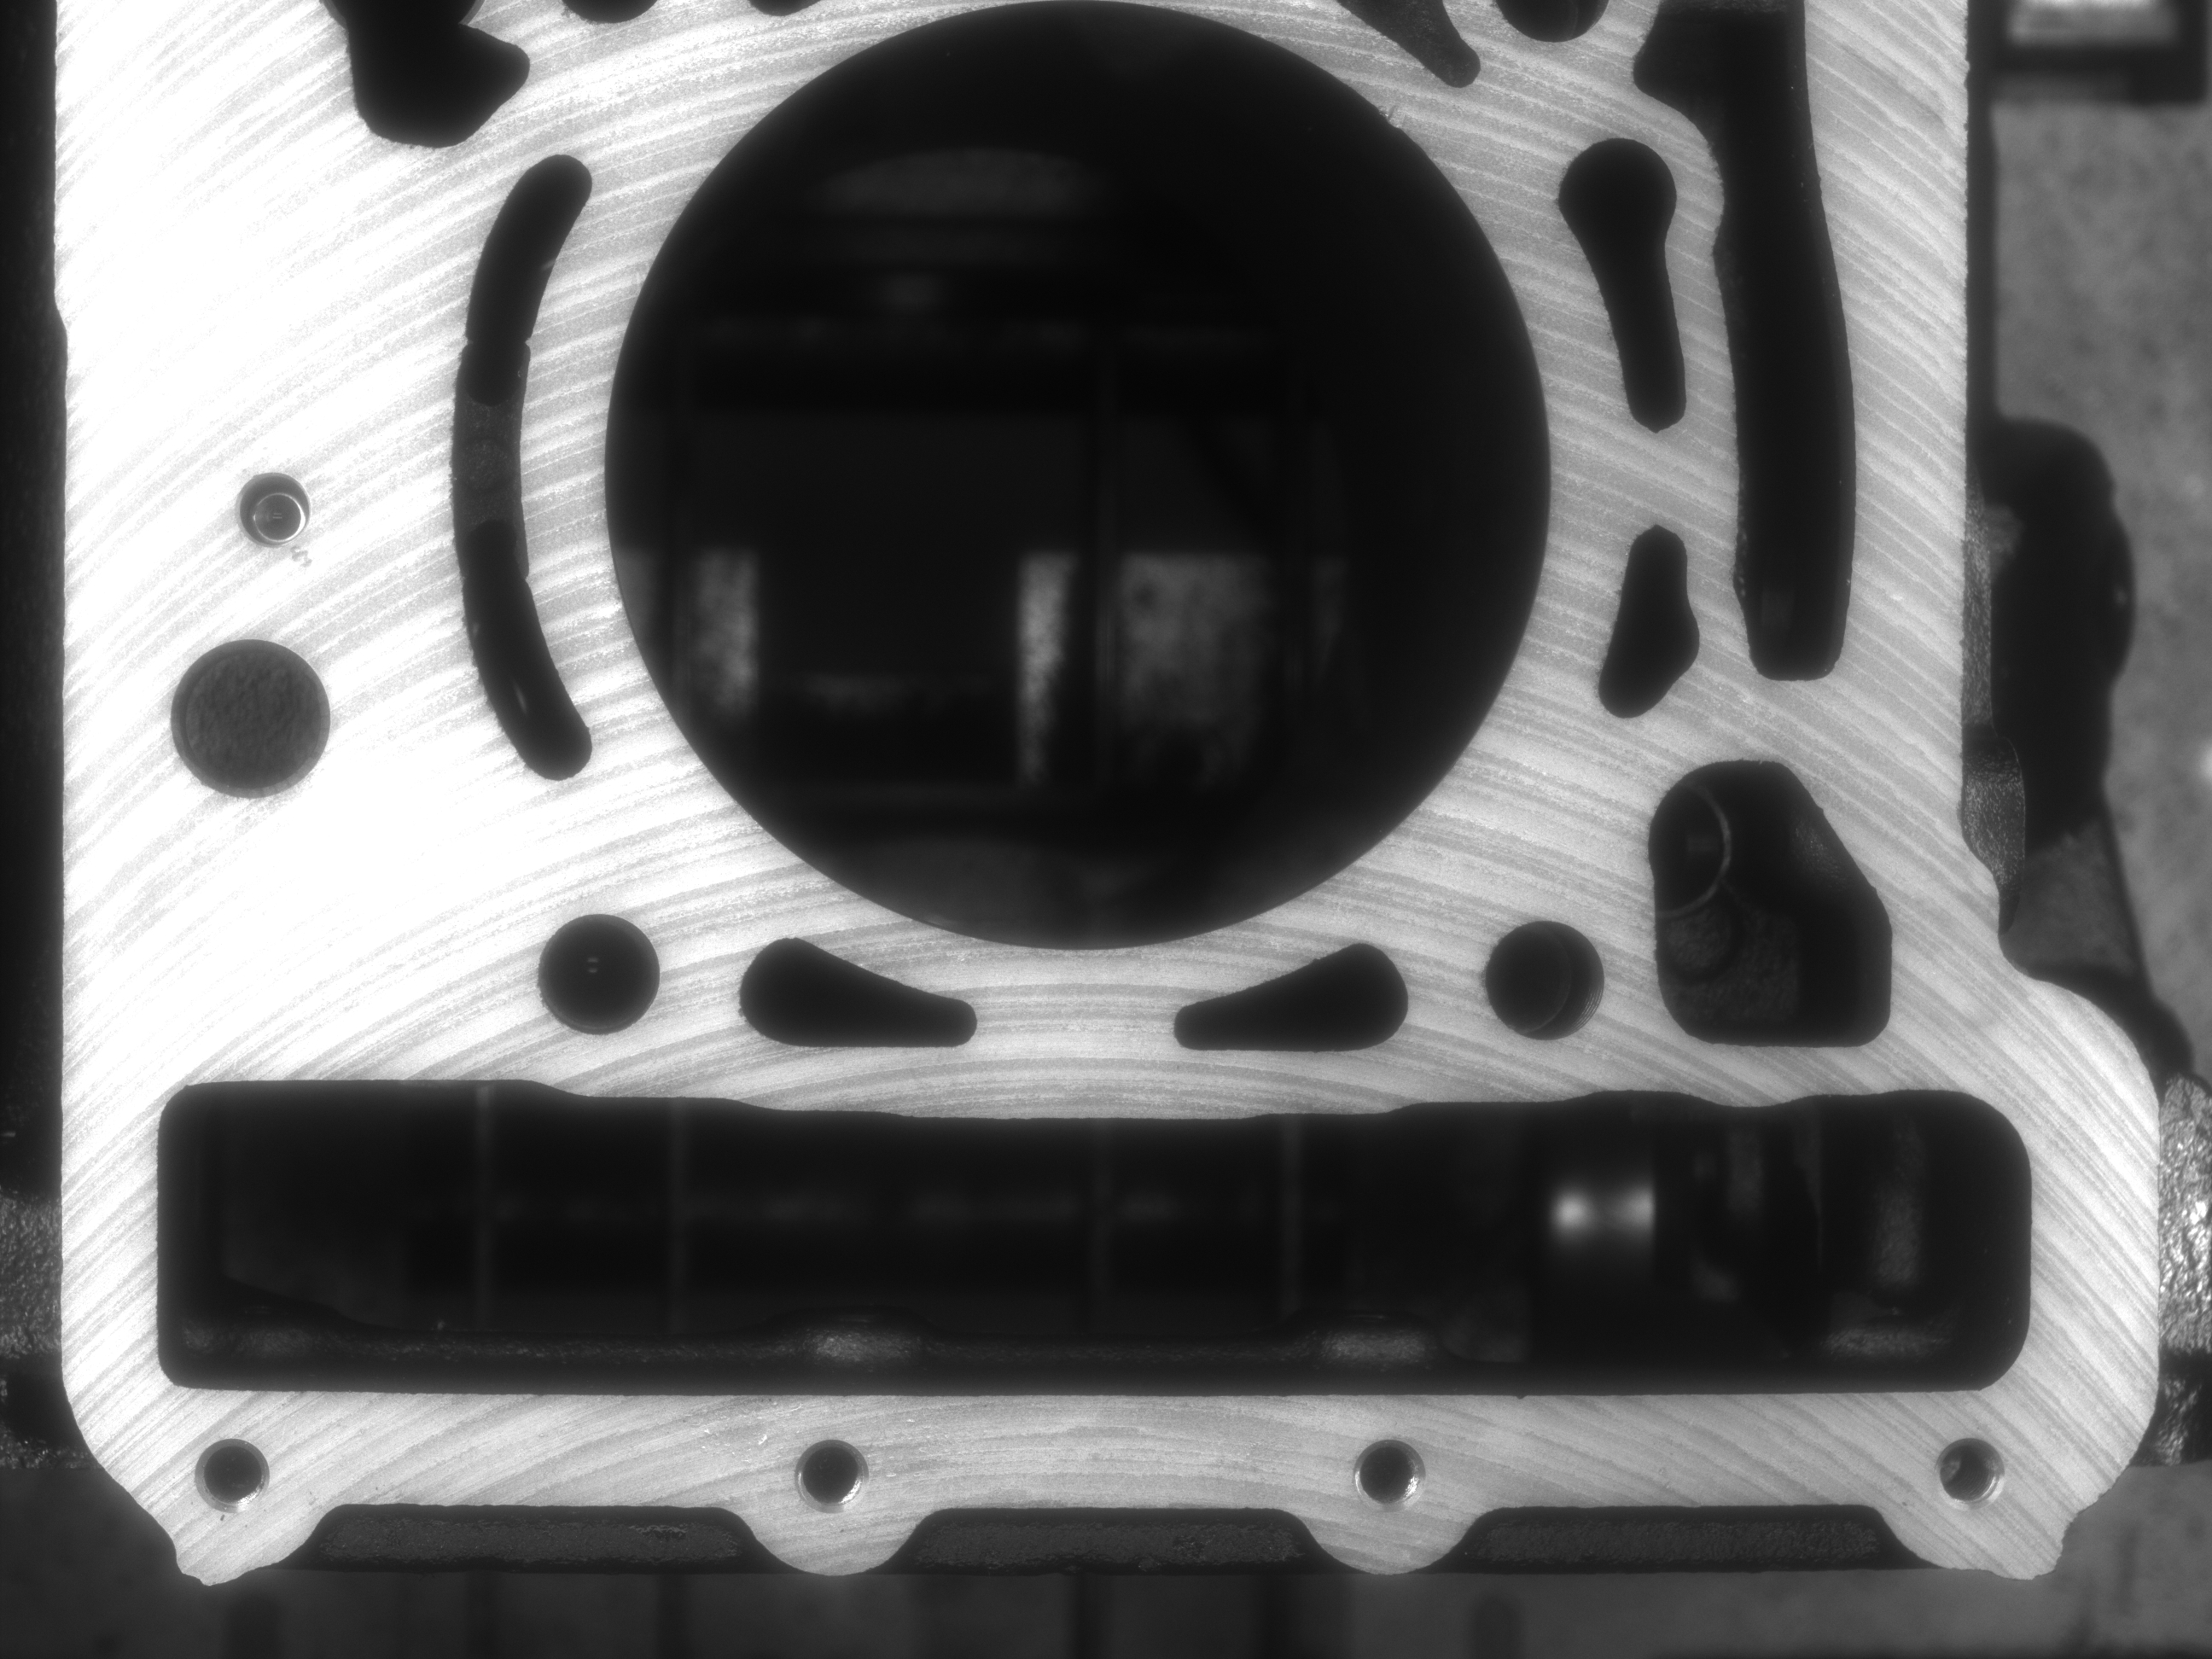shrinkage: (280, 535, 312, 575)
